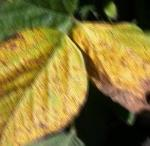Tomato Septoria leaf spot: (0, 29, 87, 146), (71, 17, 150, 115), (0, 0, 81, 48)
